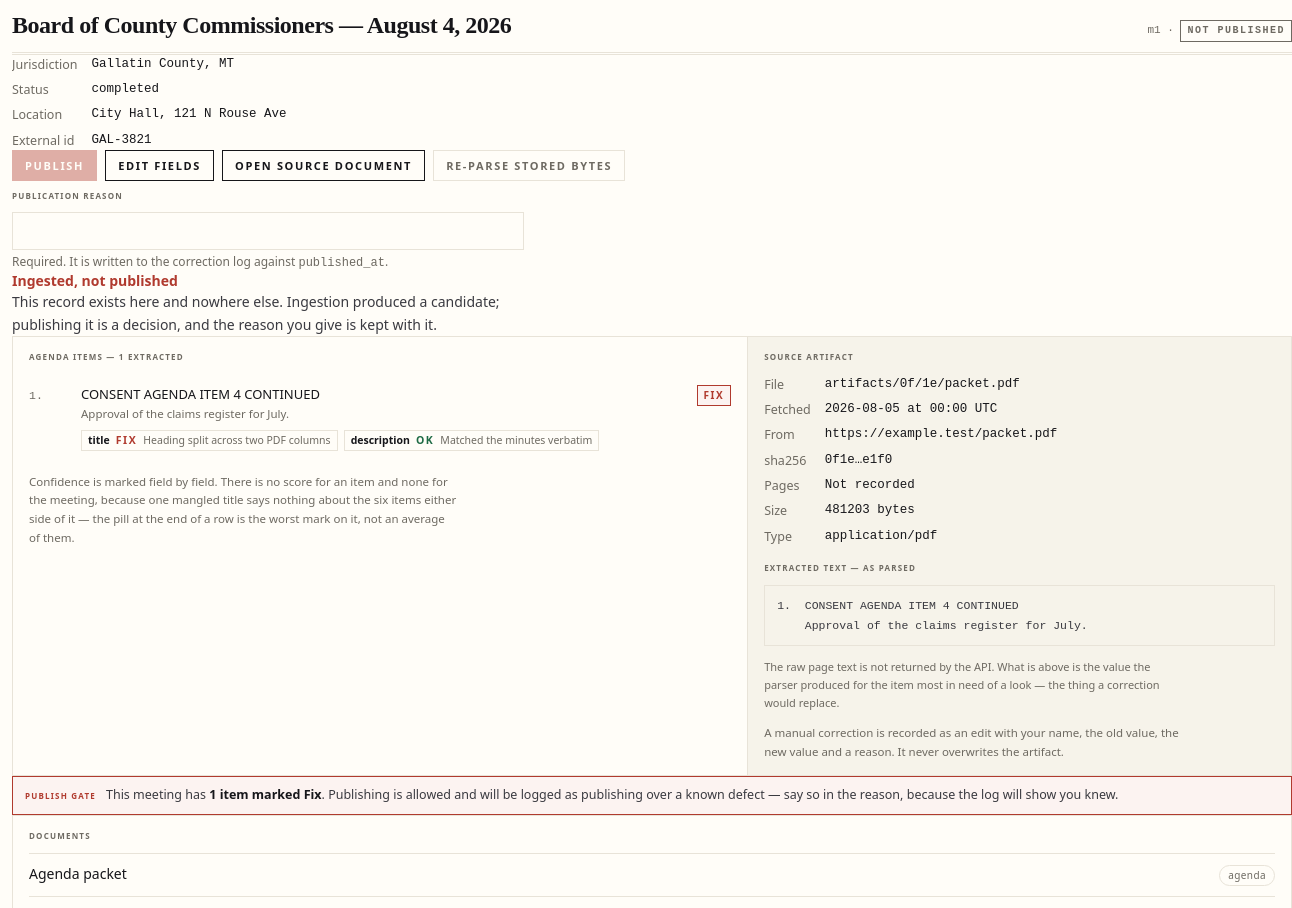
AdminMeetingDetailPage › re-parses stored bytes without contacting the source
Click the button "Re-parse stored bytes" at coordinates (529, 166), box 433,150 -> 625,181
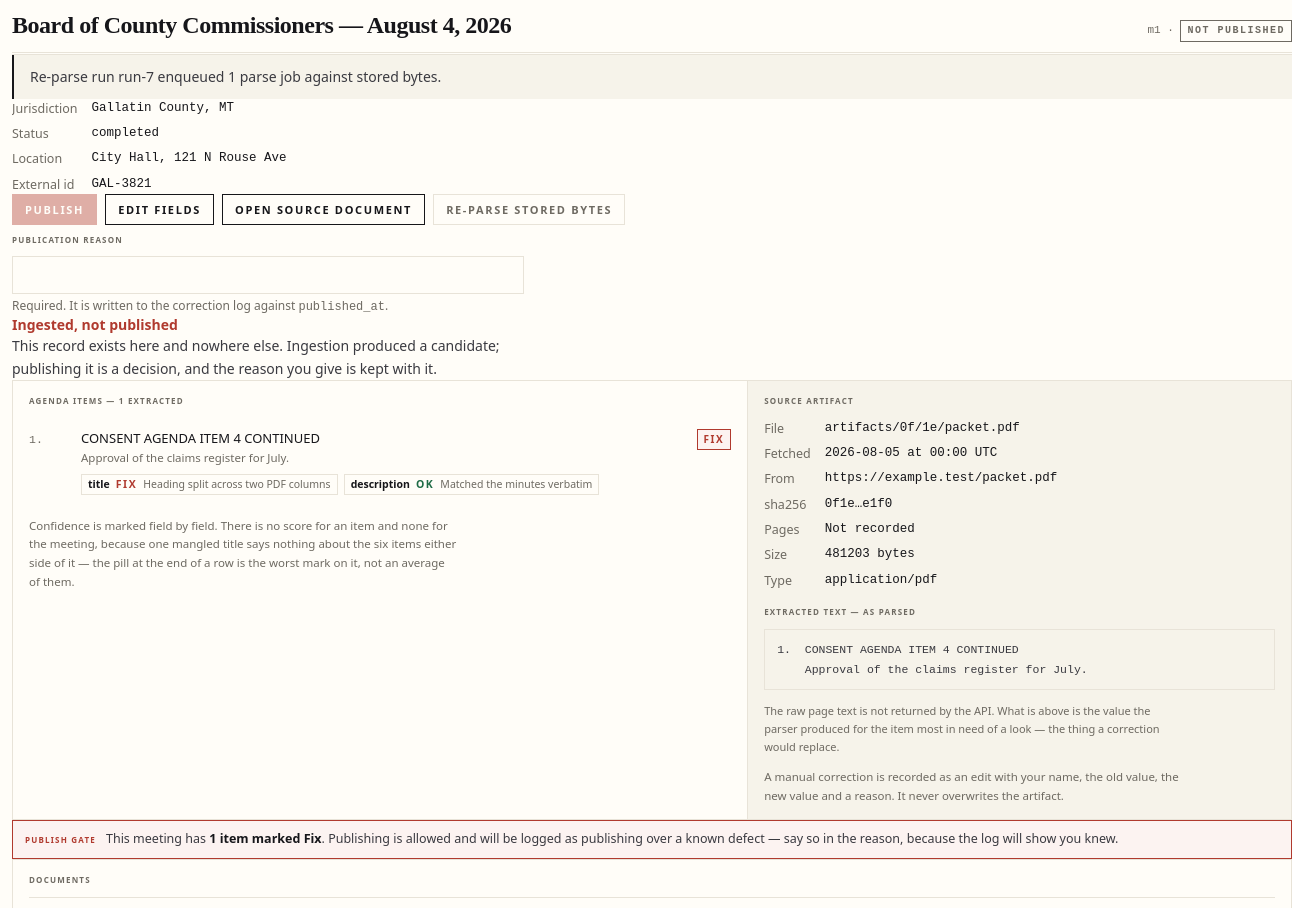
Expected: the text "Re-parse run run-7 enqueued 1 parse job against stored bytes." is shown, 12,54 -> 1291,98
